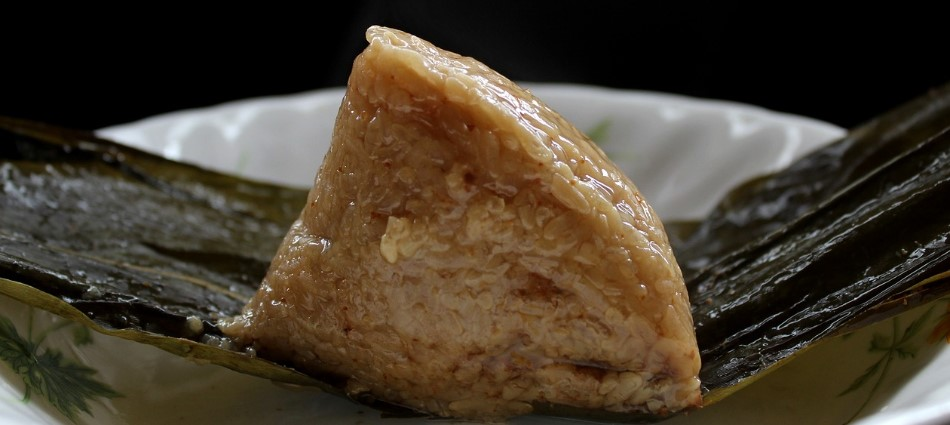zongzi: (219, 27, 700, 417)
